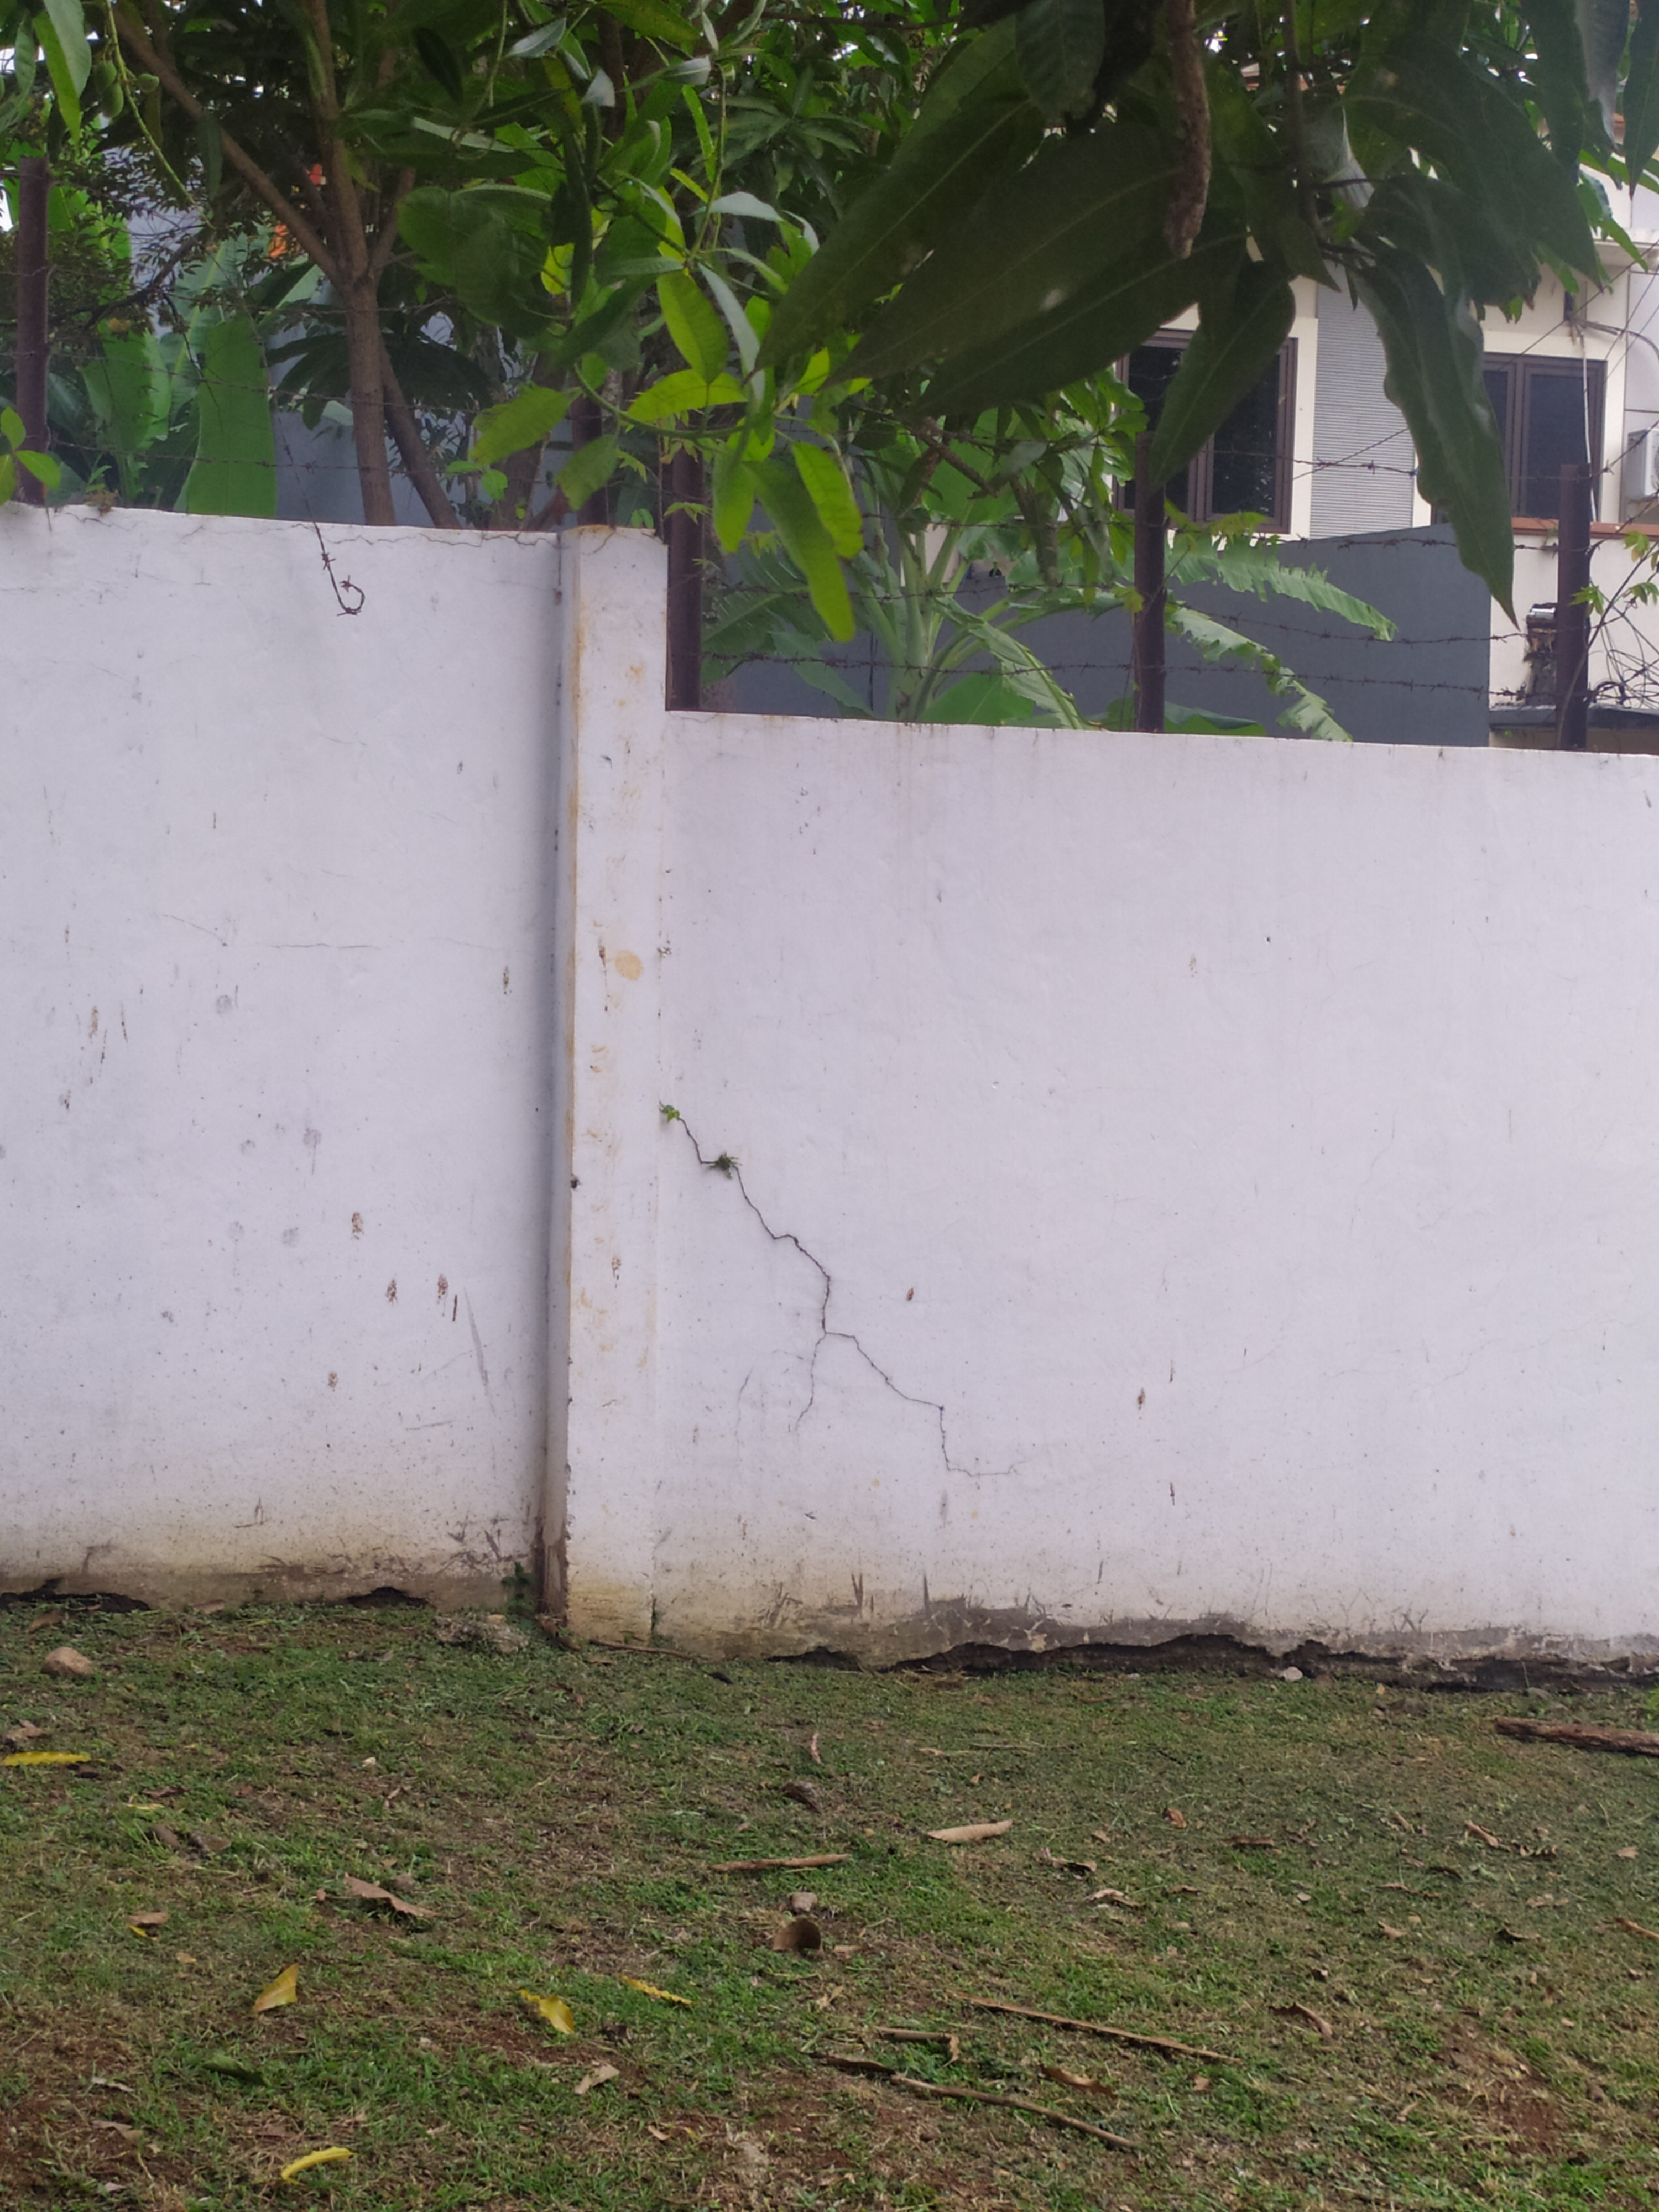crack: (657, 1099, 1026, 1486), (261, 937, 389, 954)
